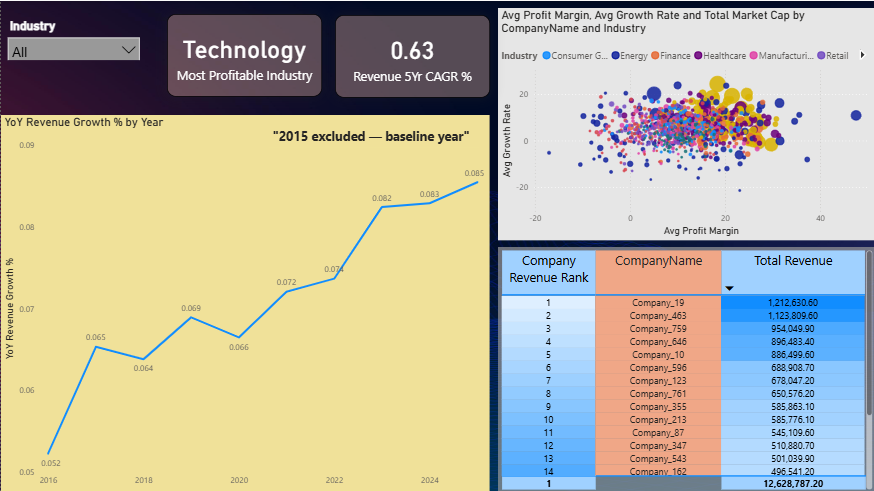

The page's visual inventory and layout, read from the dashboard file:
{"tool":"powerbi","page":{"name":"Financial Permonace","canvas":[1280,720],"ordinal":1},"visuals":[{"type":"lineChart","fields":{"Category":["DimDate.Year"],"Y":["All measures.YoY Revenue Growth %"]},"box":[0,166.9,715,552.7],"z":0},{"type":"slicer","fields":{"Values":["DimCompany.Industry"]},"box":[0,20.5,212.8,65.8],"z":1000},{"type":"scatterChart","fields":{"X":["All measures.Avg Profit Margin"],"Size":["All measures.Total Market Cap"],"Y":["All measures.Avg Growth Rate"],"Series":["DimCompany.Industry"],"Category":["DimCompany.CompanyName"]},"box":[727.3,10.2,553.2,339.5],"z":2000},{"type":"tableEx","fields":{"Values":["All measures.Company Revenue Rank","DimCompany.CompanyName","All measures.Total Revenue"]},"box":[727.3,360,553.2,360],"z":4000},{"type":"textbox","box":[392.1,180,308.2,35.1],"z":5000},{"type":"card","fields":{"Values":["All measures.Revenue 5Yr CAGR %"]},"box":[488.8,20.5,226.8,121.5],"z":6000},{"type":"card","fields":{"Values":["All measures.Most Profitable Industry"]},"box":[242.9,19,226.8,121.5],"z":7000}]}

Visuals, with their boxes in screenshot pixels (x1, y1, x2, y2), scaled from the page's 1280x720 canvas onto the 874x491 screenshot:
lineChart - DimDate.Year x All measures.YoY Revenue Growth %: (x1=0, y1=114, x2=488, y2=490)
slicer - DimCompany.Industry: (x1=0, y1=14, x2=145, y2=59)
scatterChart - All measures.Avg Profit Margin x All measures.Total Market Cap: (x1=497, y1=7, x2=873, y2=238)
tableEx - All measures.Company Revenue Rank x DimCompany.CompanyName: (x1=497, y1=246, x2=873, y2=490)
textbox: (x1=268, y1=123, x2=478, y2=147)
card - All measures.Revenue 5Yr CAGR %: (x1=334, y1=14, x2=489, y2=97)
card - All measures.Most Profitable Industry: (x1=166, y1=13, x2=321, y2=96)
